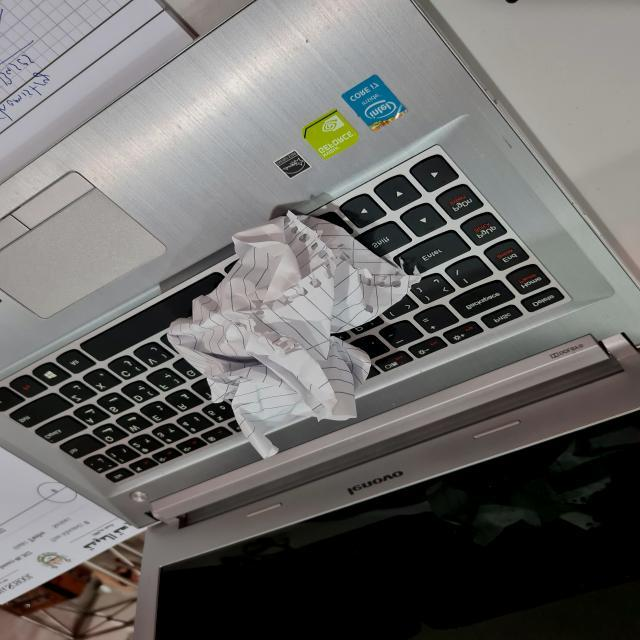Paper: (158, 195, 418, 461)
